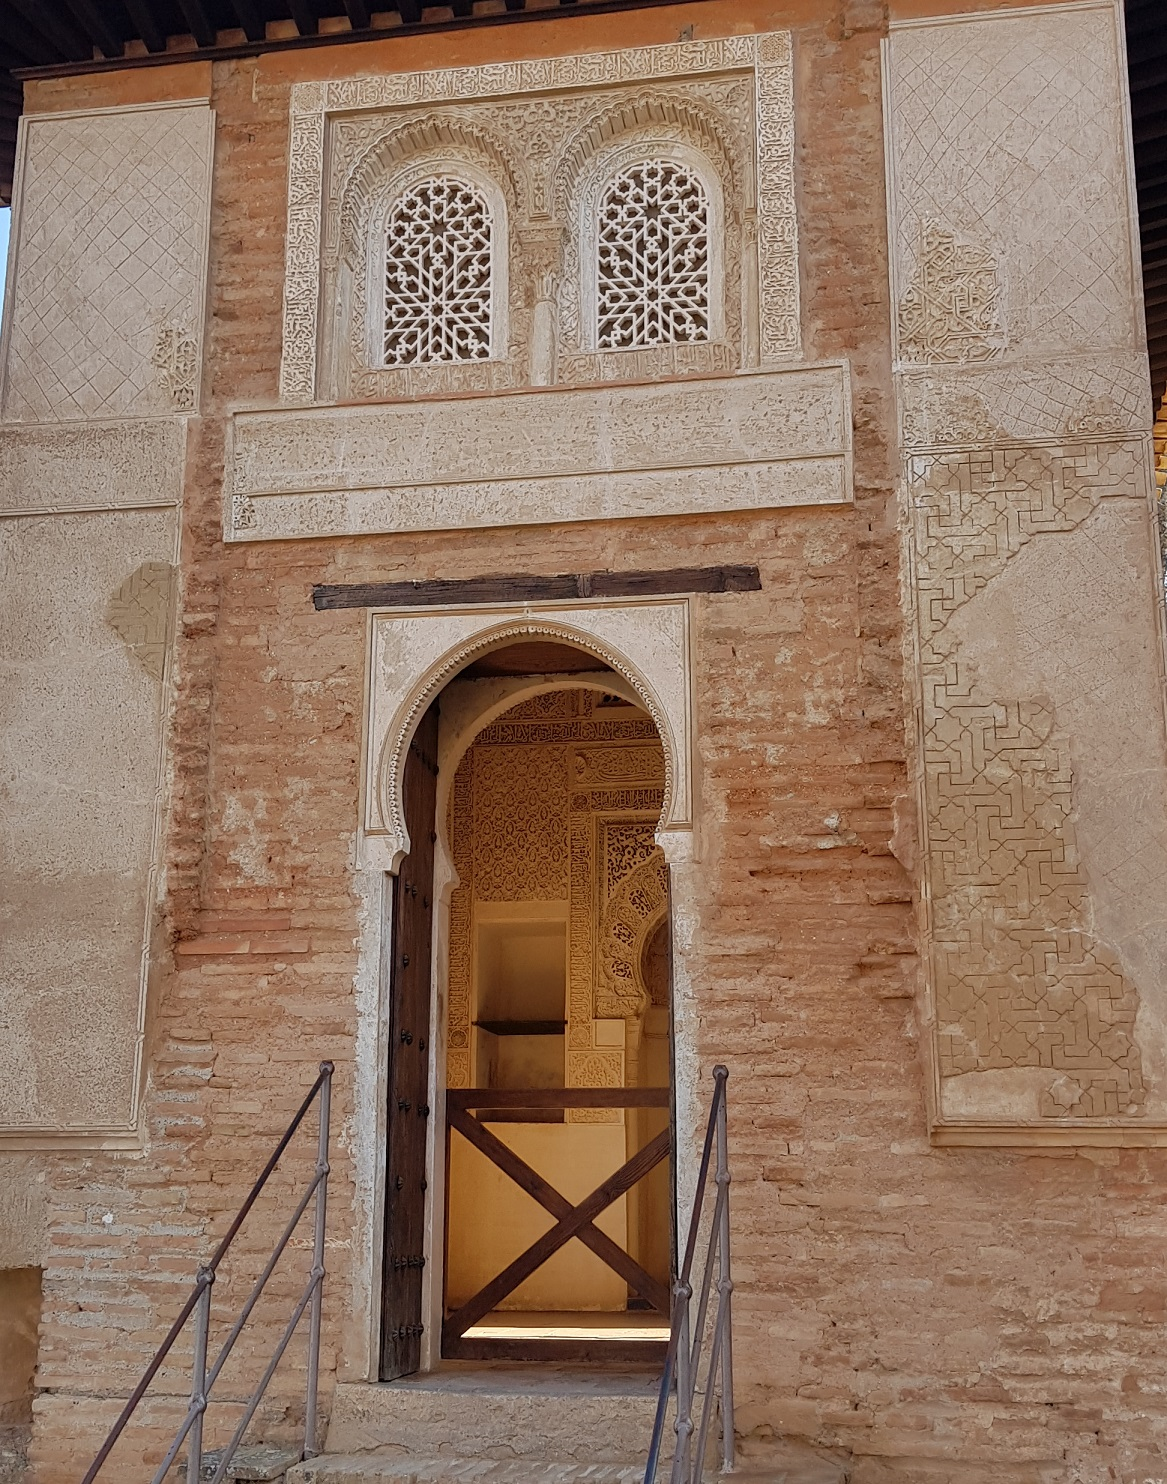arco-herradura: (359, 606, 686, 899)
